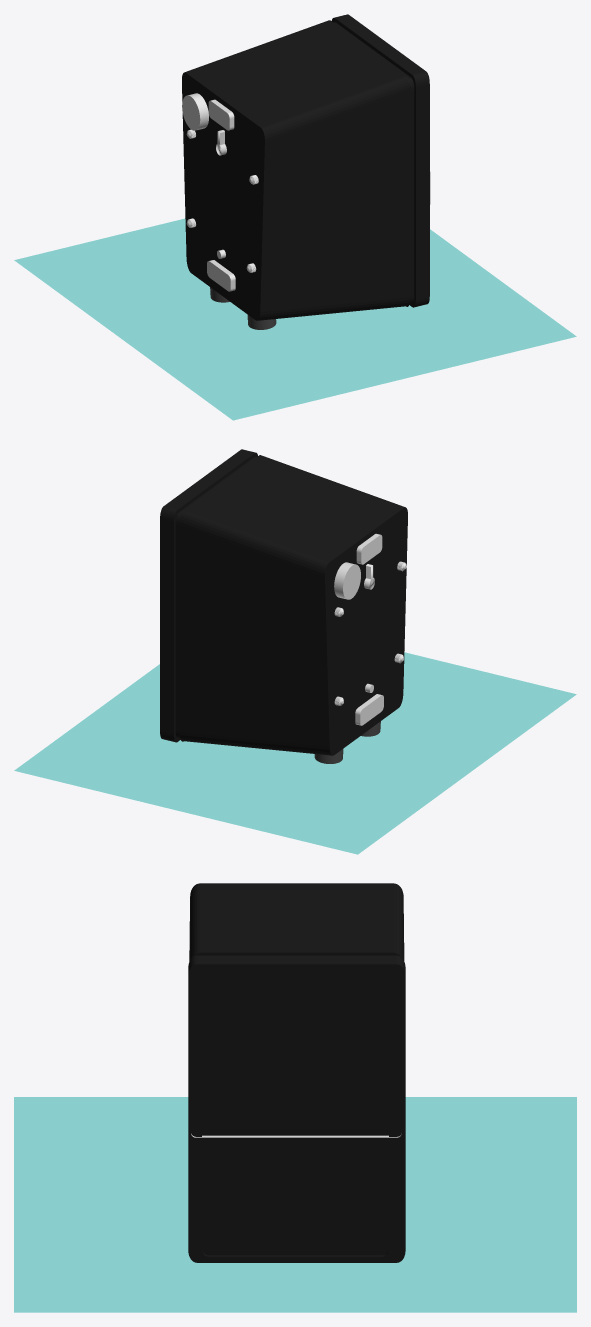
The model's file is Bocina.glb.
The picture shows the model from 3 angles, top to bottom: view 1: azimuth 30°, elevation 25°; view 2: azimuth 150°, elevation 25°; view 3: azimuth 270°, elevation 25°; orthographic projection. The views are drawn at different scales.
Parts seen in each view (by area): view 1: Cube, Plano, Cilindro, Cubo.003, Cubo.001; view 2: Cube, Plano, Cilindro, Cubo.003, Cubo.001; view 3: Plano, Cube, Cubo.004.
Boxes of the visible parts, x1,y1,x2,y2 form: Cube: (182, 14, 429, 320); Plano: (14, 218, 576, 420); Cilindro: (182, 93, 208, 130); Cubo.003: (207, 260, 235, 291); Cubo.001: (208, 99, 234, 130); Cube: (160, 449, 407, 755); Plano: (14, 652, 576, 854); Cilindro: (334, 562, 360, 599); Cubo.003: (355, 694, 383, 725); Cubo.001: (356, 533, 382, 564); Plano: (14, 1097, 576, 1312); Cube: (188, 883, 405, 1262); Cubo.004: (191, 1133, 401, 1137).
Bounding box in the file's own units: 4.74 × 3.06 × 5.23.
